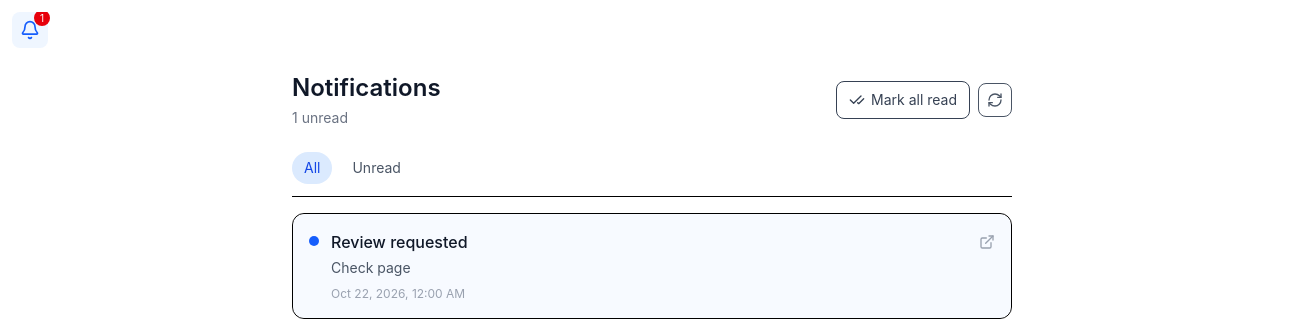
it: notification read synchronization › clears the bell and refreshes its open dropdown immediately after mark all on the page
The image size is (1292, 336).
Click the button named "Notifications".
click(30, 30)  # box x1=12 y1=12 x2=48 y2=48
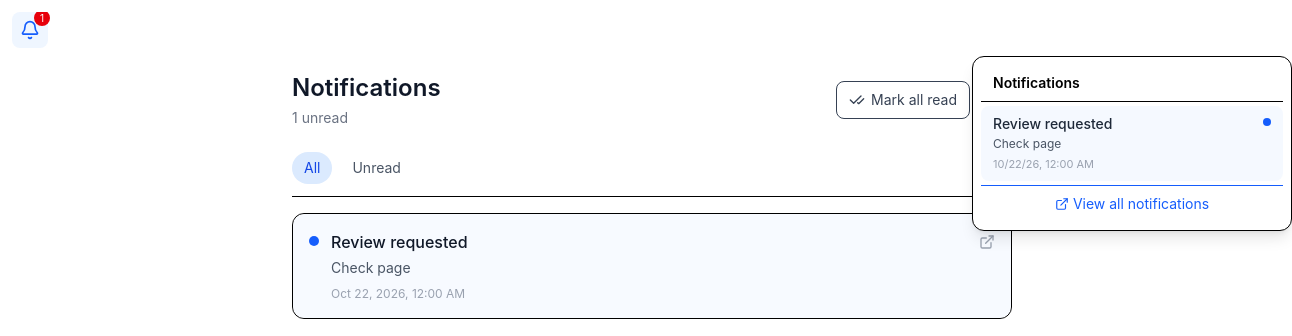
Expected: the element named "Unread" is shown, x1=1263 y1=118 x2=1271 y2=126
Click the button "Mark all read".
click(903, 100)  # box x1=836 y1=81 x2=970 y2=119
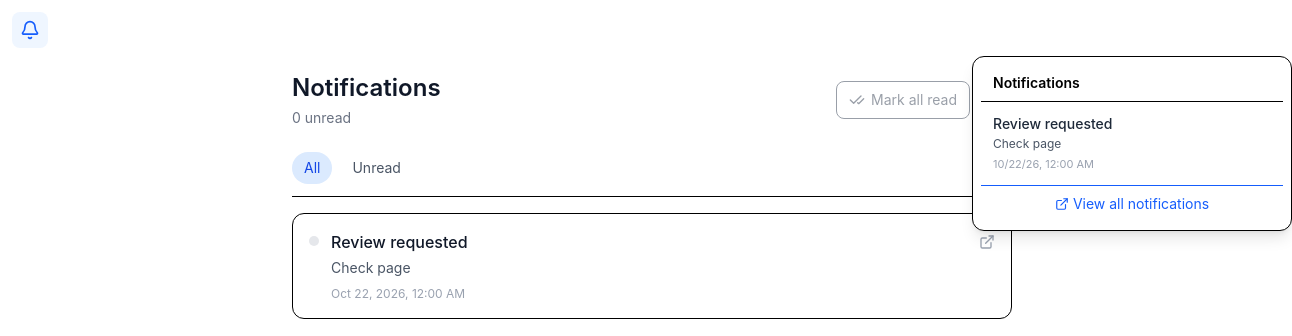
Expected: the text "Review requested" is shown 2 times, x1=993 y1=115 x2=1112 y2=132; x1=331 y1=232 x2=468 y2=252
Expected: the text labelled "1 unread" is gone
Expected: the text "0 unread" is shown, x1=292 y1=109 x2=351 y2=126
